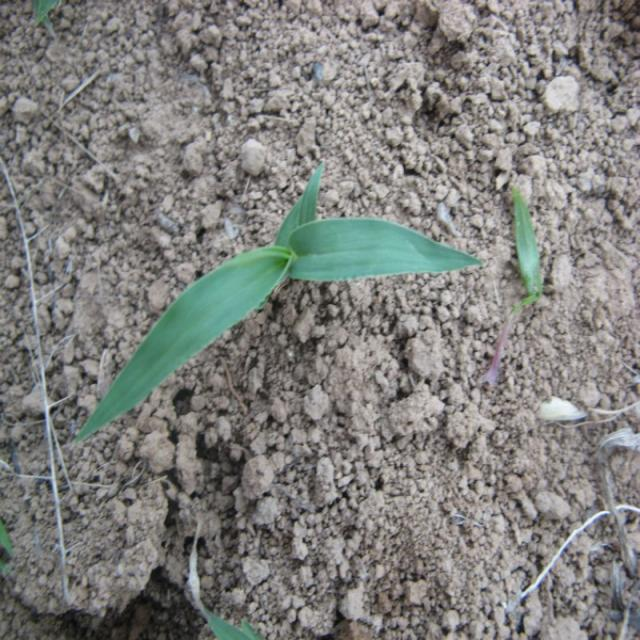bg: (82, 162, 485, 438)
